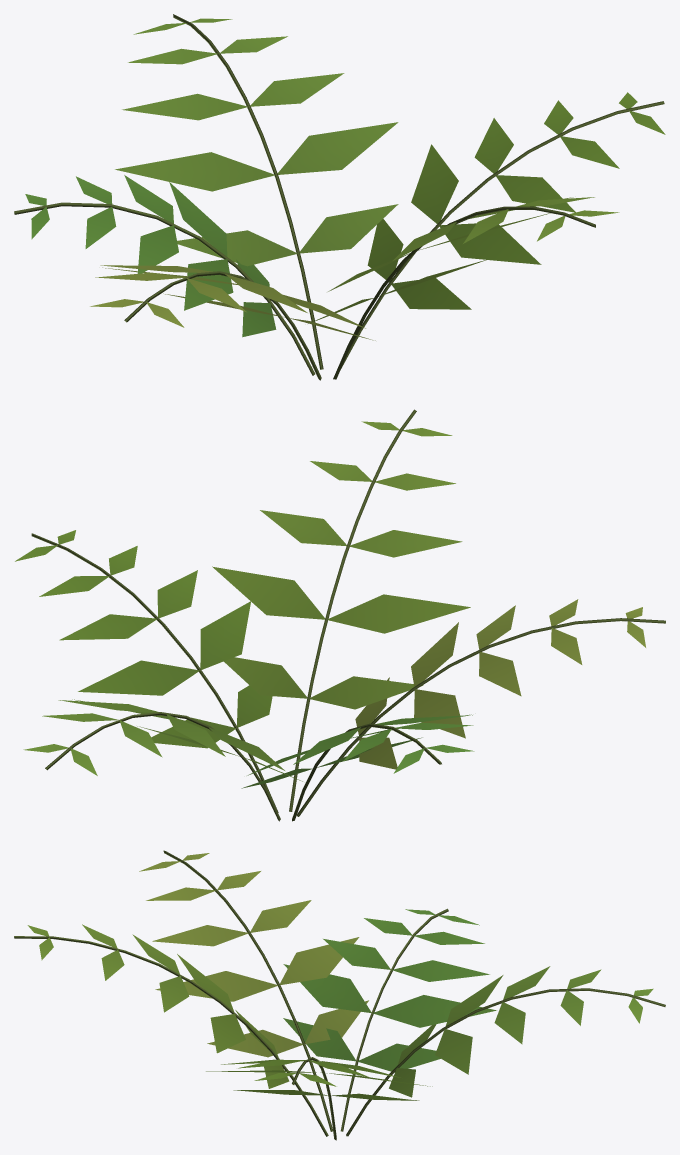
Rendered from fern-bracken-a.lod1.glb.
3 views of the same model, one above another, from view 1: azimuth 30°, elevation 25°; view 2: azimuth 150°, elevation 25°; view 3: azimuth 270°, elevation 25° (orthographic). The views are drawn at different scales.
Parts seen in each view (by area): view 1: fern-bracken-a.lod1; view 2: fern-bracken-a.lod1; view 3: fern-bracken-a.lod1.
Part boxes in pixels (x1,y1,x2,y2): fern-bracken-a.lod1: (14,14,665,380); fern-bracken-a.lod1: (15,409,665,821); fern-bracken-a.lod1: (14,850,665,1140).
Bounding box in the file's own units: 1.71 × 0.7456 × 1.96.
